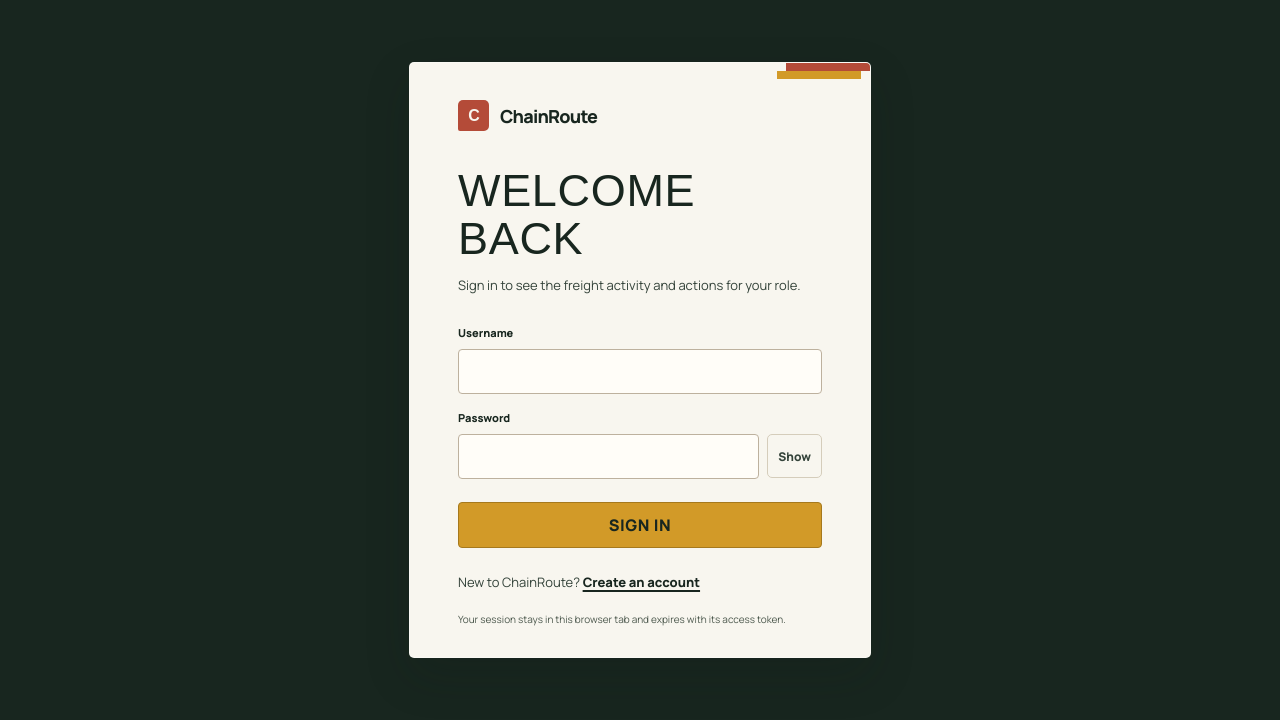
Scenario: dashboard route access › submits the backend login shape, stores its expiry, and redirects to the shared home
Type "demo.shipper" into the field labelled "Username".
click(640, 371); type("demo.shipper")  # box [458,349,822,394]
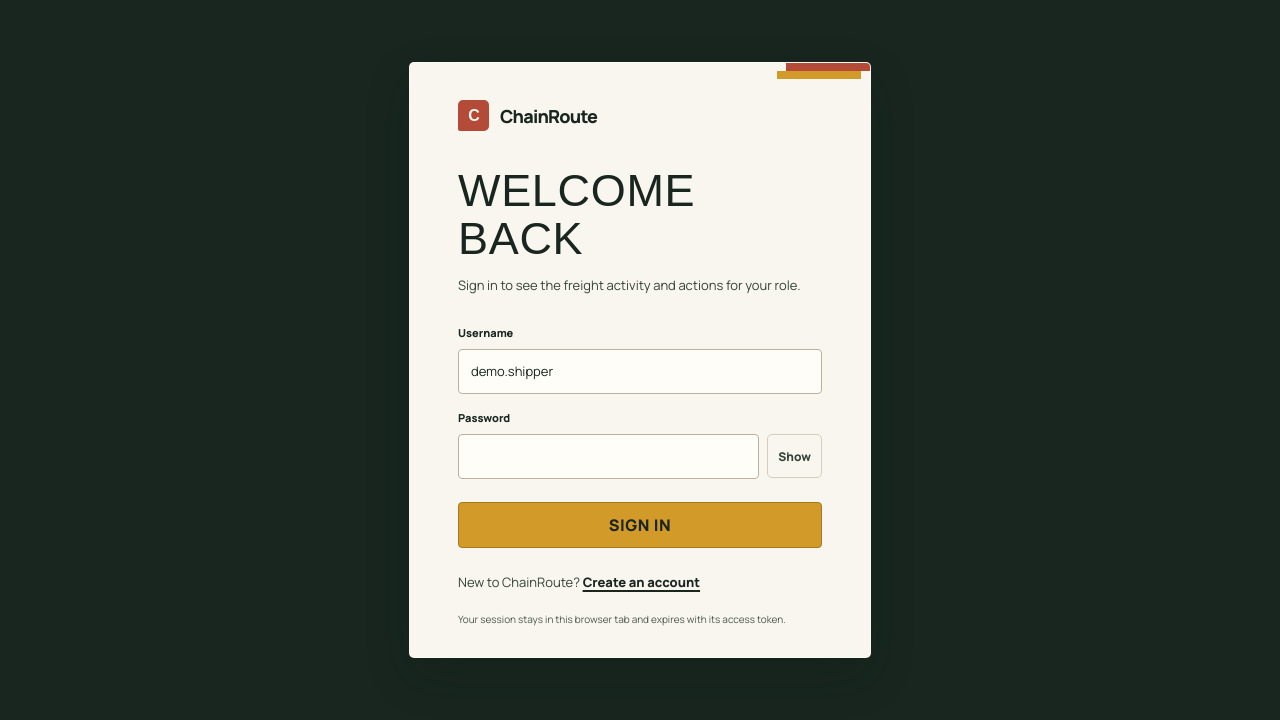
Type "private-demo-password" into the password field labelled "Password".
click(609, 456); type("private-demo-password")  # box [458,434,759,479]
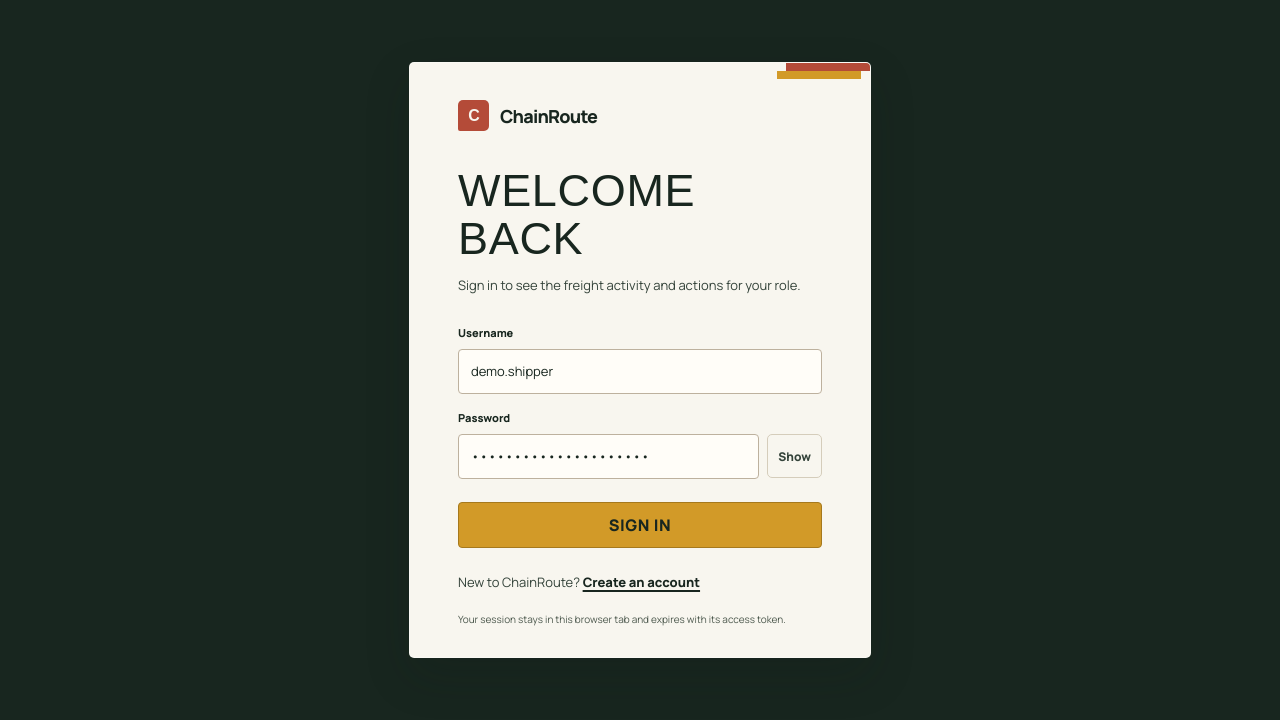
Click the button "Sign in".
click(640, 525)  # box [458,502,822,548]
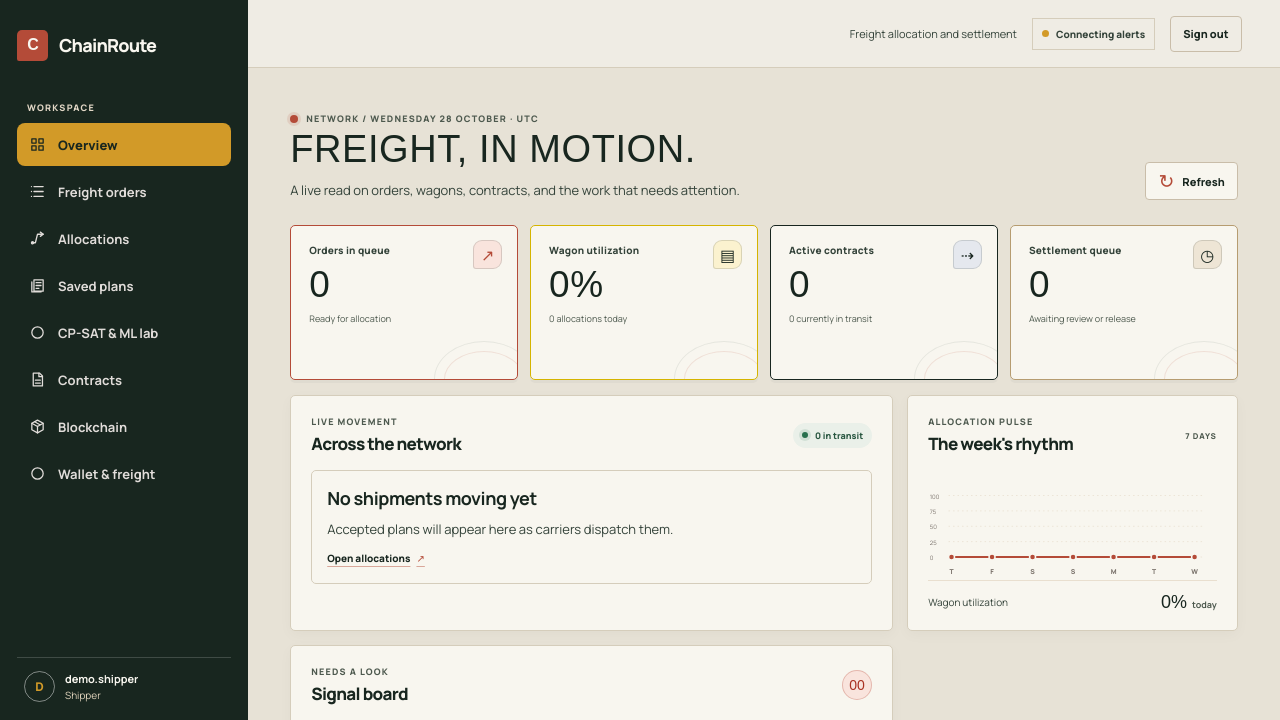
Check: the heading "Freight, in motion." is shown, box [290,130,740,170]
